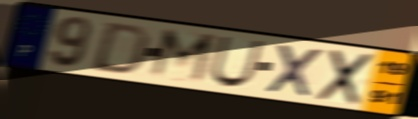9: (46, 15, 97, 70)
D: (87, 20, 153, 76)
M: (146, 26, 220, 87)
U: (207, 34, 266, 89)
X: (313, 47, 377, 107), (263, 41, 326, 100)
